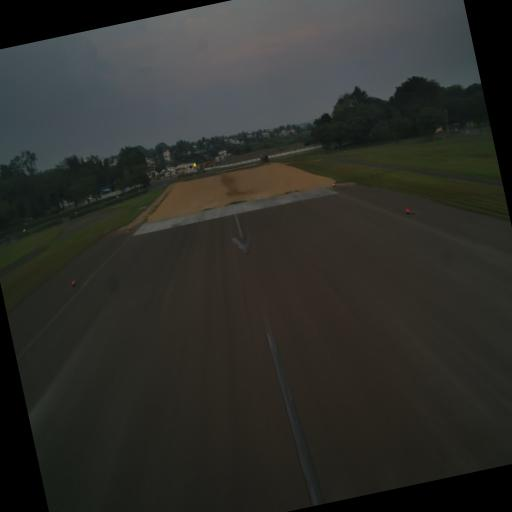on: (68, 274, 79, 289), (402, 202, 412, 216)
